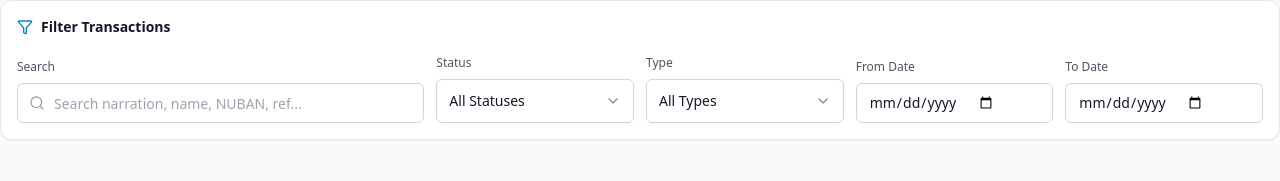
TransactionFilterBar component › displays Reset All button when active filters exist and clears them on click
expect the button "reset all" is not shown: met
Add filter
In the field labelled "Search": (221, 103) [17,83,424,123], type "stock"
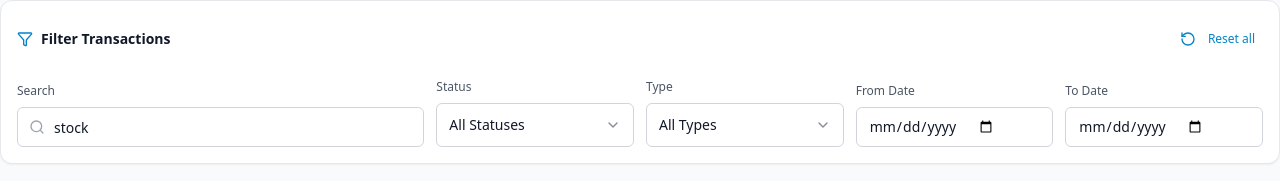
expect the button "Reset all" is shown: met
Click reset
Click the button "Reset all": (1217, 39) [1172,17,1263,61]
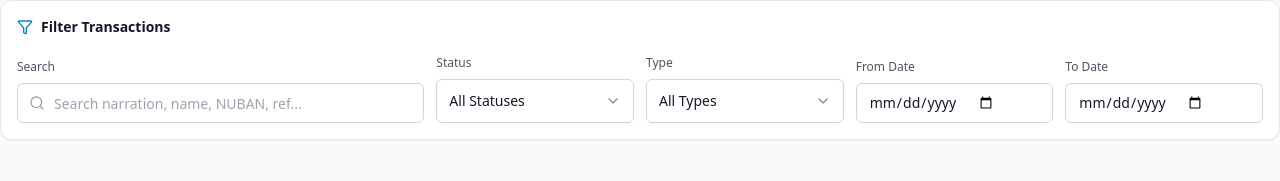
expect the button "Reset all" is gone: met
